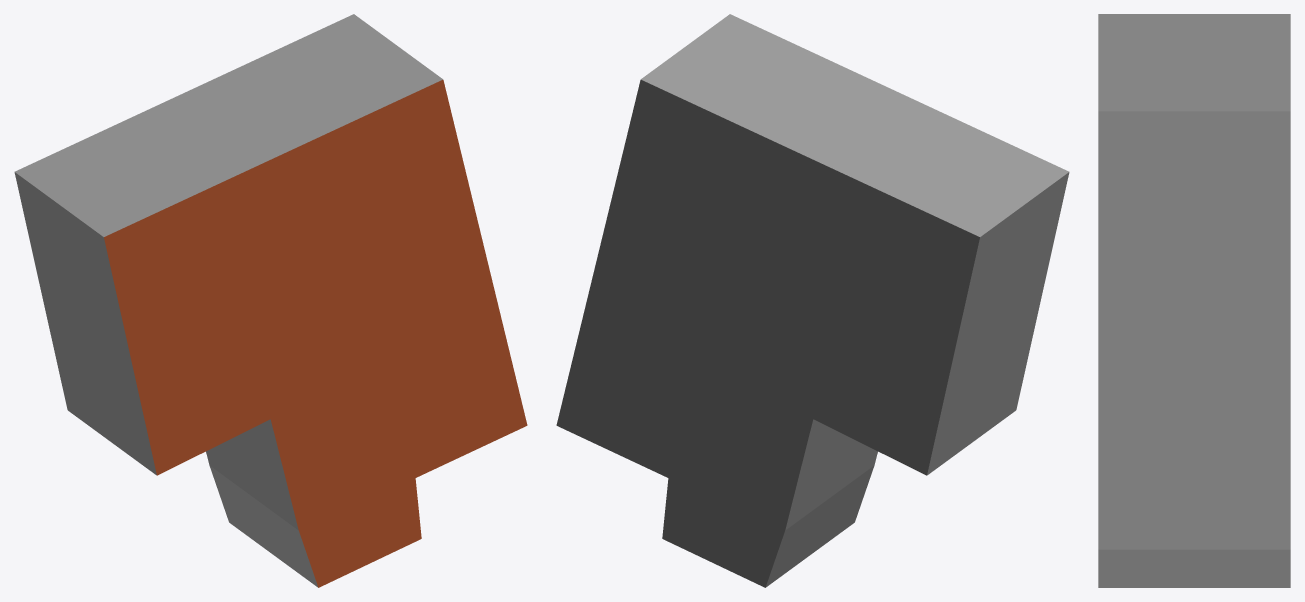
File: construction_4297_assumed_A_Casa_h6m.obj
3 renders of one model, left to right at view 1: azimuth 30°, elevation 25°; view 2: azimuth 150°, elevation 25°; view 3: azimuth 270°, elevation 25°, orthographic. The views are drawn at different scales.
Visible parts, largest first — view 1: construction_4297_assumed_A_Casa; view 2: construction_4297_assumed_A_Casa; view 3: construction_4297_assumed_A_Casa.
Part boxes in pixels (<box>): construction_4297_assumed_A_Casa: <box>14,14,527,587</box>; construction_4297_assumed_A_Casa: <box>556,14,1069,587</box>; construction_4297_assumed_A_Casa: <box>1098,14,1290,587</box>.
Bounding box in the file's own units: 16.41 × 17.7 × 6.
